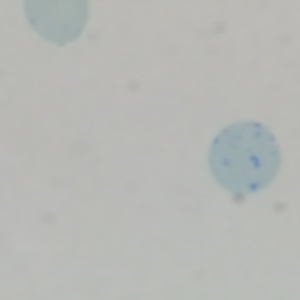aggregate reticulocyte: (205, 118, 283, 199)
